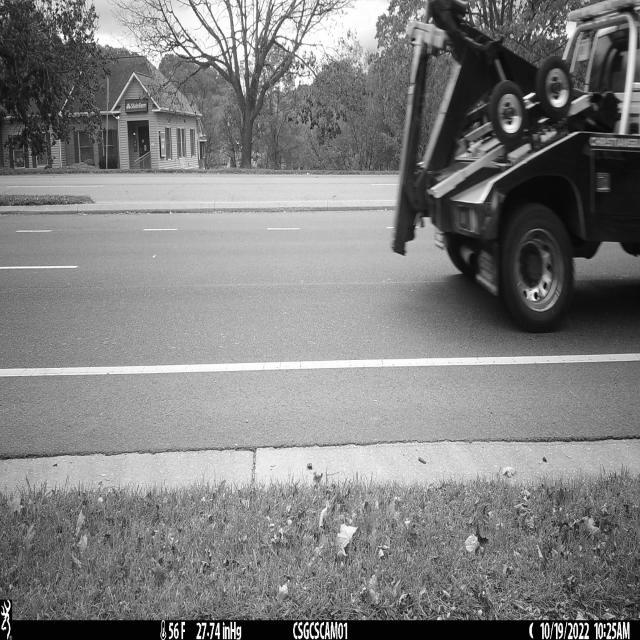Tow Truck: (392, 0, 640, 335)
